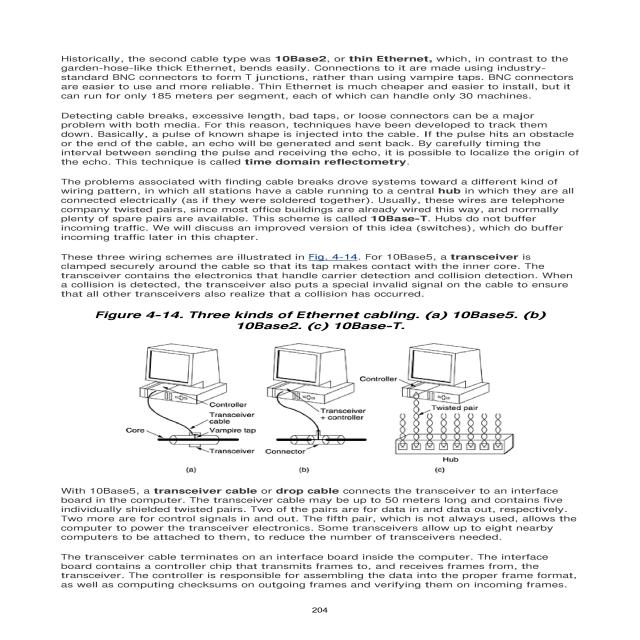diagram: (61, 304, 598, 478)
